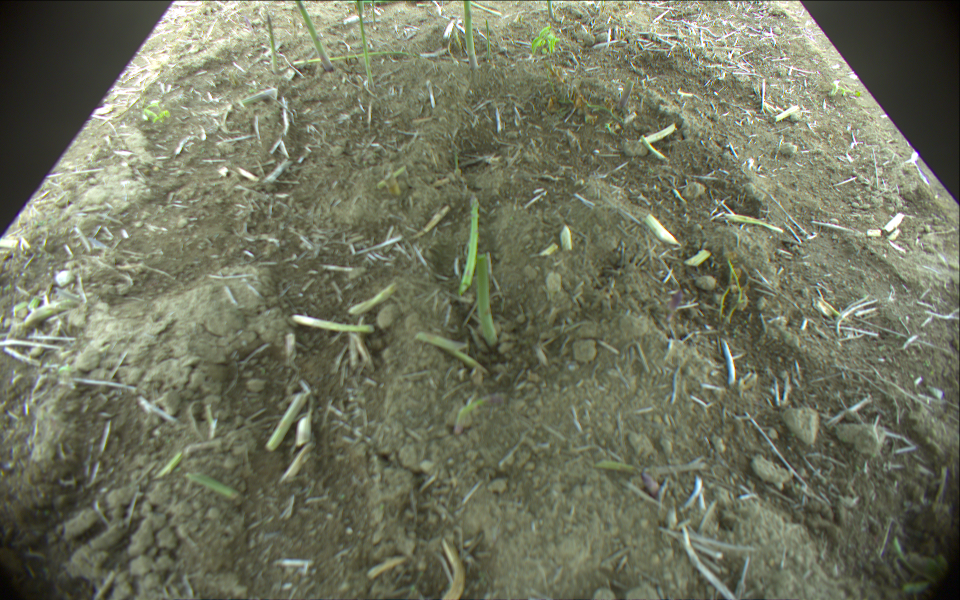aspa: (293, 1, 336, 72), (413, 331, 487, 371), (265, 389, 307, 458), (456, 195, 483, 295), (451, 393, 508, 435), (291, 47, 412, 66), (356, 1, 376, 90), (291, 314, 374, 335), (475, 253, 494, 342), (182, 472, 238, 502), (349, 285, 393, 315), (461, 1, 478, 68), (265, 14, 276, 71), (485, 19, 491, 59), (547, 1, 557, 24)
